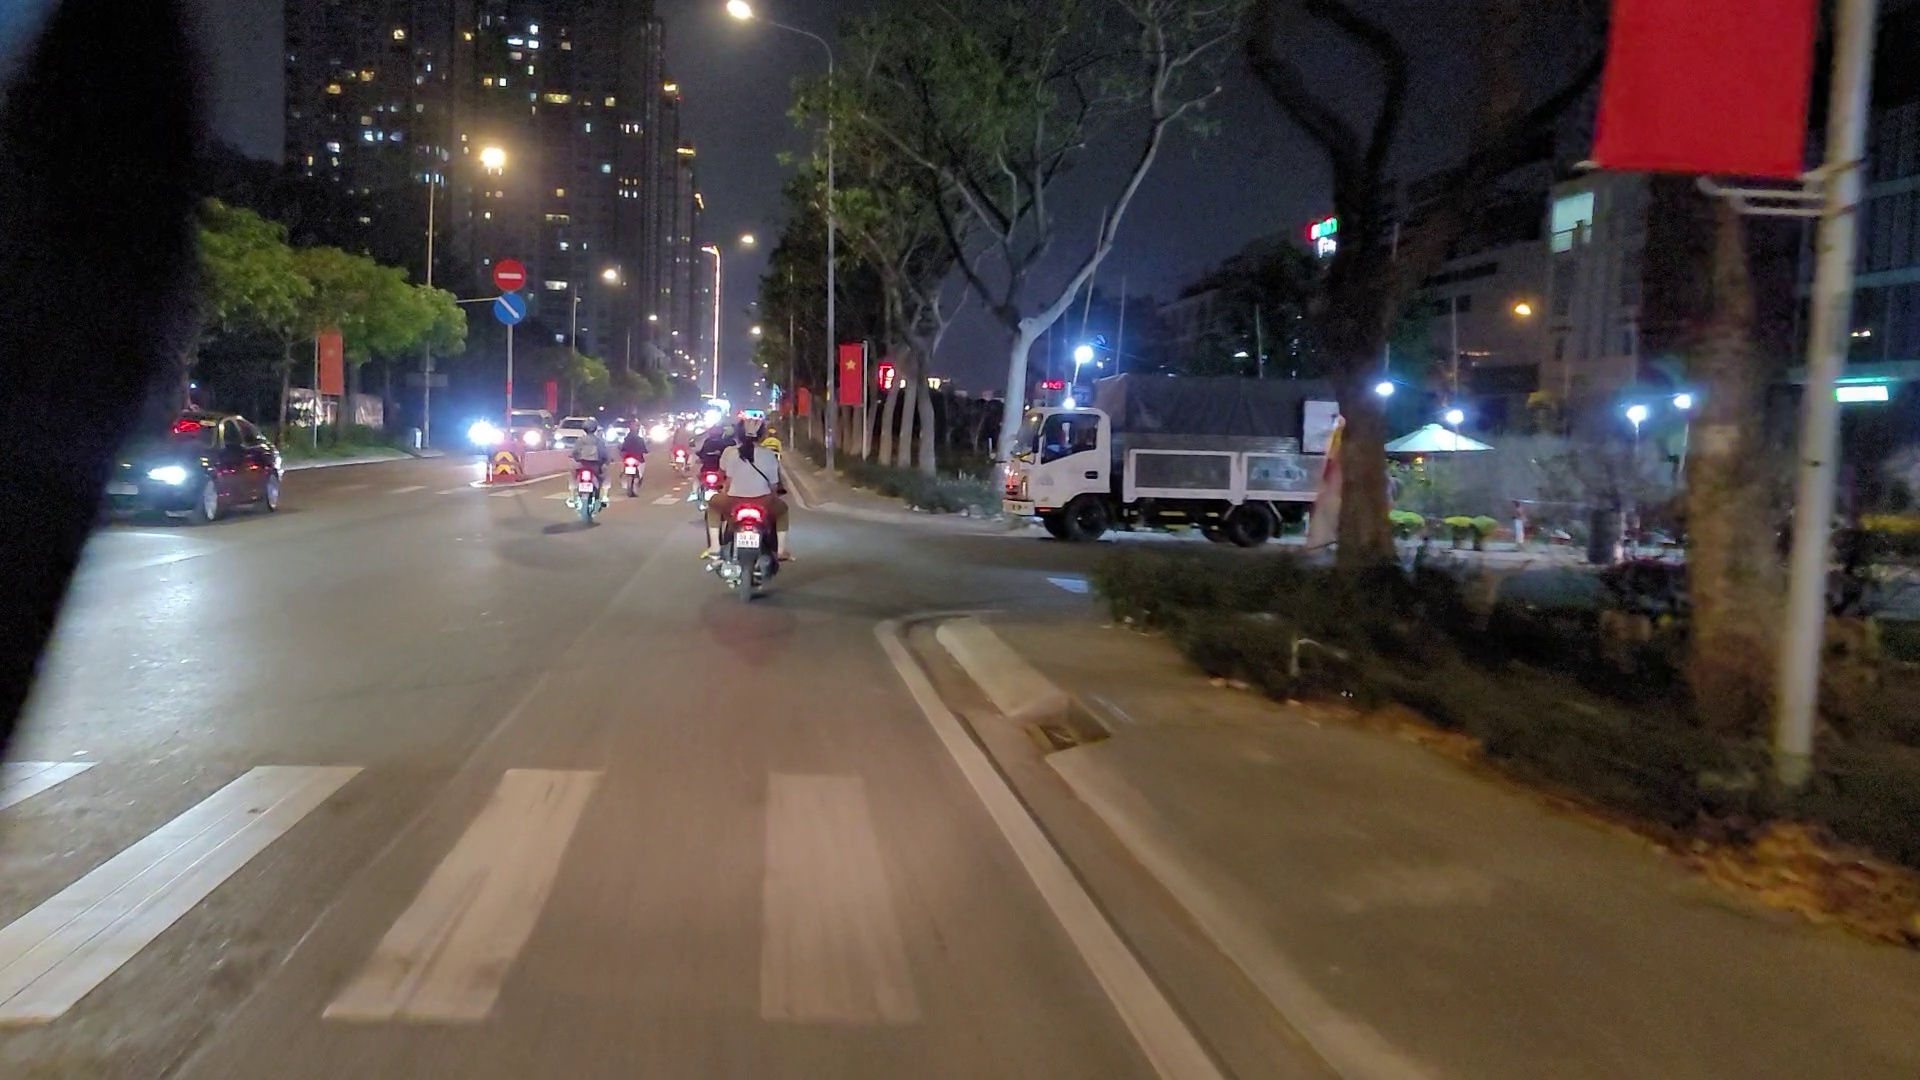Cam di nguoc chieu: (492, 257, 525, 291)
Huong di phai re phai: (492, 287, 525, 323)
